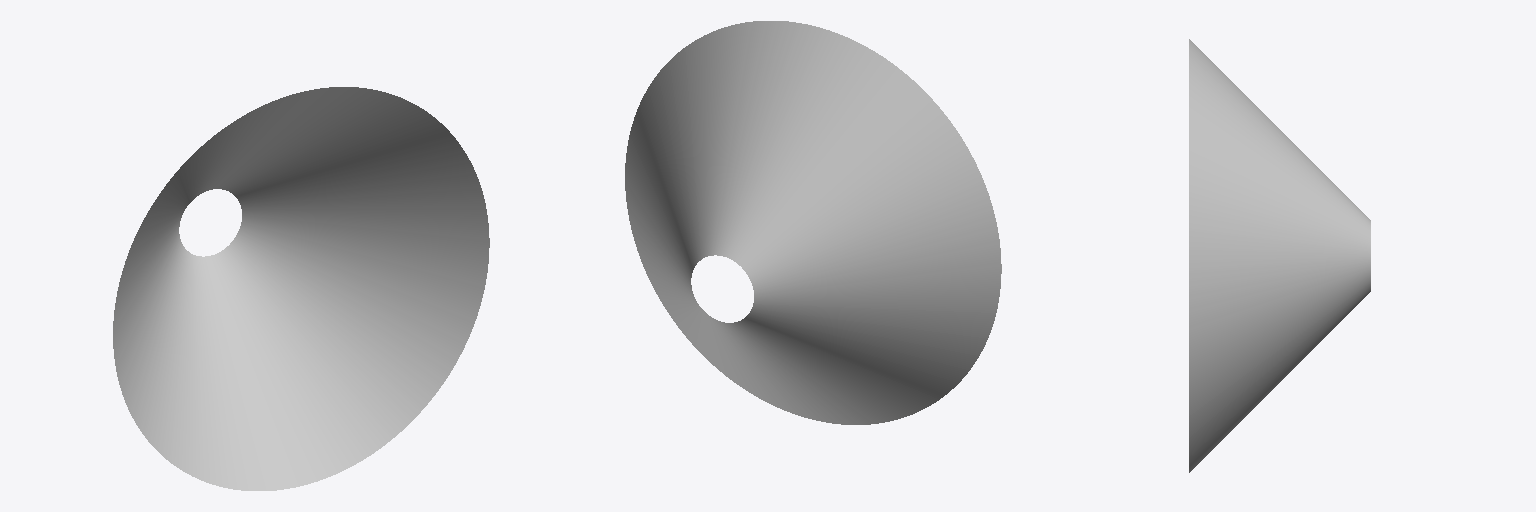
File: gran_zcone.obj
3 renders of one model, left to right at view 1: azimuth 30°, elevation 25°; view 2: azimuth 150°, elevation 25°; view 3: azimuth 270°, elevation 25°, orthographic.
Parts seen in each view (by area): view 1: Cone_Cone.010; view 2: Cone_Cone.010; view 3: Cone_Cone.010.
Boxes of the visible parts, x1=… form: Cone_Cone.010: x1=113, y1=87, x2=489, y2=490; Cone_Cone.010: x1=625, y1=21, x2=1001, y2=424; Cone_Cone.010: x1=1189, y1=39, x2=1370, y2=472.
Size of the model in its own units: 96 by 96 by 40.